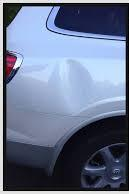dent: (43, 55, 102, 130)
